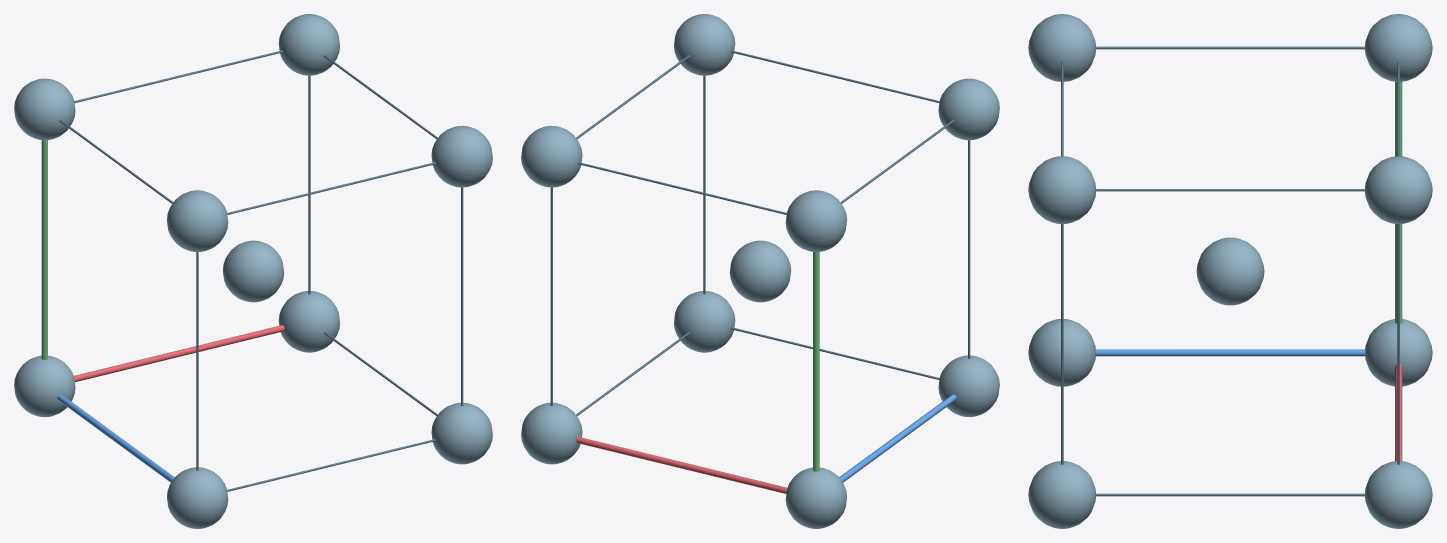
Rendered from nguyen-to-w.glb.
3 renders of one model, left to right at view 1: azimuth 30°, elevation 25°; view 2: azimuth 150°, elevation 25°; view 3: azimuth 270°, elevation 25°, orthographic. The views are drawn at different scales.
Visible parts, largest first — view 1: W · W · 1 (×9), Ô mạng và các trục a, b, c; view 2: W · W · 1 (×9), Ô mạng và các trục a, b, c; view 3: W · W · 1 (×9), Ô mạng và các trục a, b, c.
Part boxes in pixels (x1,y1,x2,y2): W · W · 1 (×9): (14,14,492,528); Ô mạng và các trục a, b, c: (41,50,463,491); W · W · 1 (×9): (521,14,999,528); Ô mạng và các trục a, b, c: (550,50,970,493); W · W · 1 (×9): (1028,14,1432,528); Ô mạng và các trục a, b, c: (1061,46,1402,496).
Bounding box in the file's own units: 3.8 × 3.8 × 3.8.
